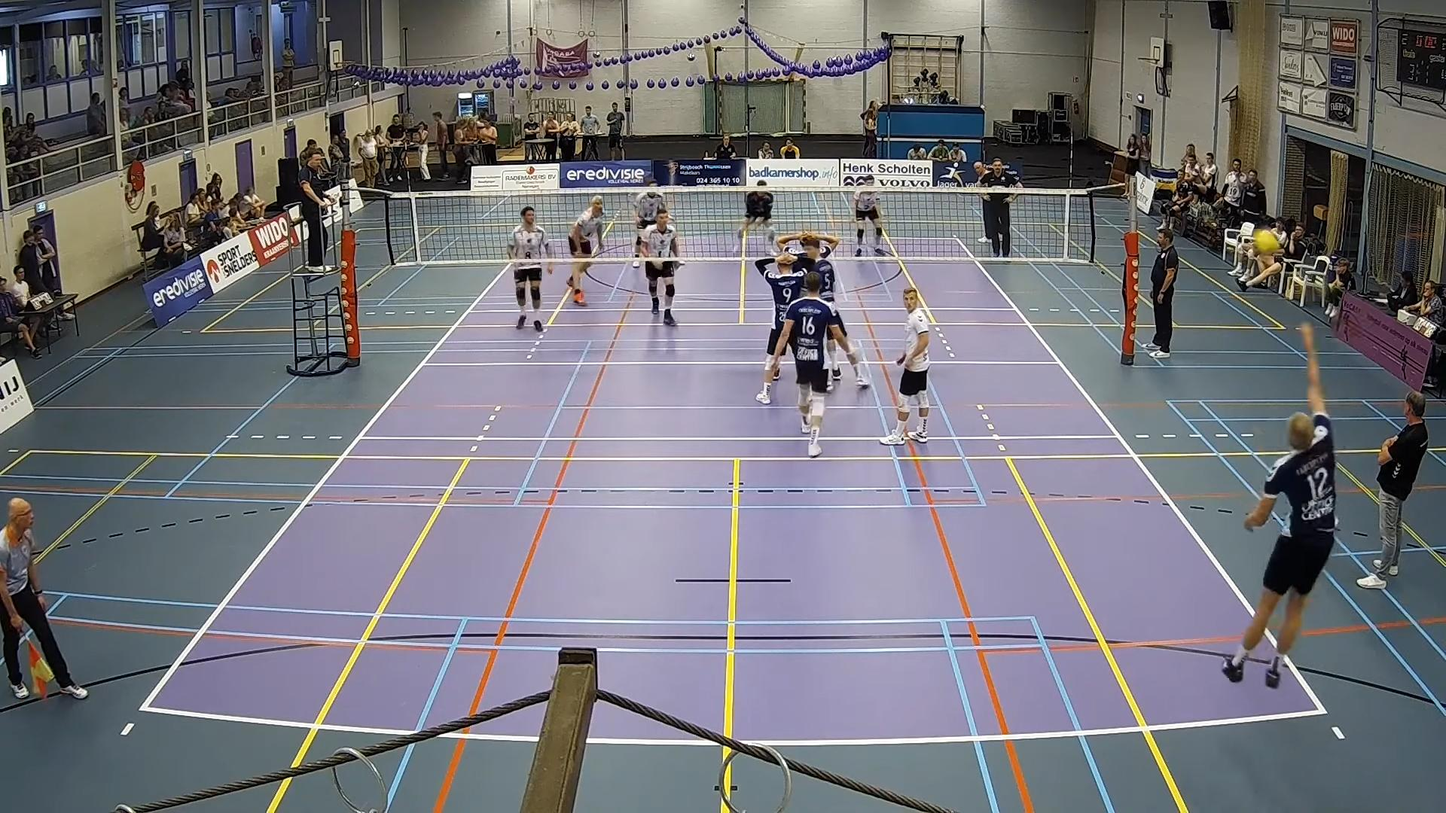battuta: (1223, 322, 1340, 703)
